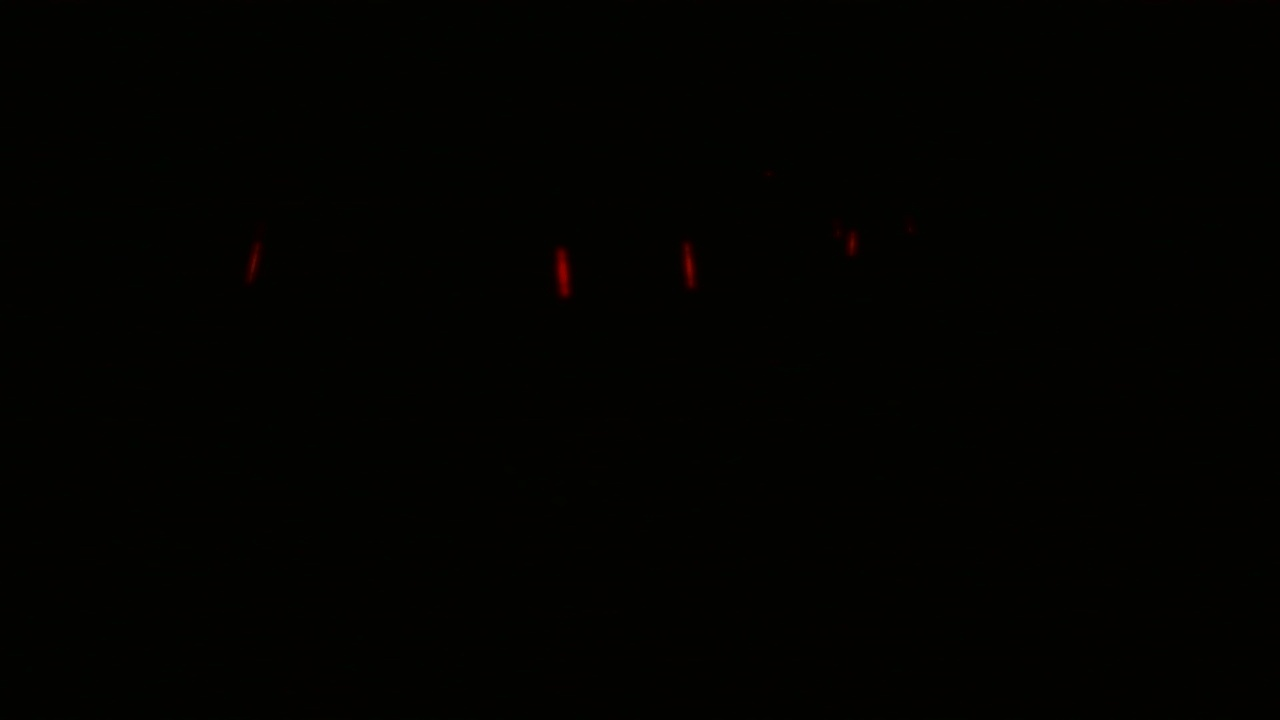pair1: (550, 231, 707, 307)
